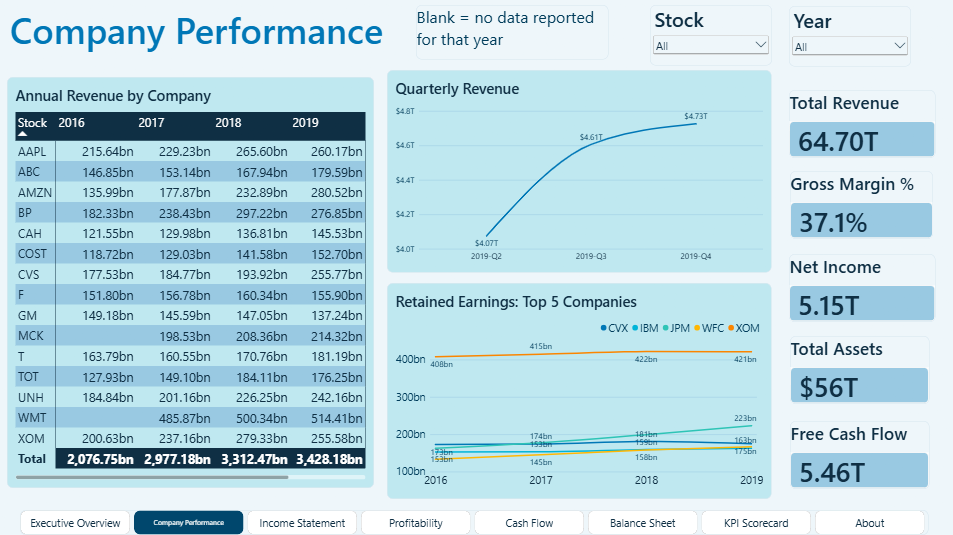

The dashboard page shown, as its layout file describes it:
{"tool":"powerbi","page":{"name":"Company Performance","canvas":[1920,1080],"ordinal":1},"visuals":[{"type":"textbox","box":[29.4,20.6,882.9,108.9],"z":0},{"type":"slicer","fields":{"Values":["Dim_Date.Year"]},"box":[1588.1,21.3,244.5,121.2],"z":1000},{"type":"slicer","fields":{"Values":["Dim_Company.stock"]},"box":[1310.7,20.2,244.5,121.2],"z":2000},{"type":"cardVisual","title":"Total Revenue","fields":{"Data":["_Measures.Total Revenue"]},"box":[1588.1,189.2,293,136],"z":3000},{"type":"cardVisual","title":"Net Income","fields":{"Data":["_Measures.Net Income"]},"box":[1588.1,518.7,293,136],"z":4000},{"type":"cardVisual","title":"Free Cash Flow","fields":{"Data":["_Measures.Free Cash Flow"]},"box":[1590.2,852.5,279,136],"z":5000},{"type":"cardVisual","title":"Total Assets","fields":{"Data":["_Measures.Total Assets (Latest)"]},"box":[1590.2,682.4,279,136],"z":6000},{"type":"cardVisual","title":"Gross Margin %","fields":{"Data":["_Measures.Gross Margin %"]},"box":[1590.2,352.9,286,136],"z":7000},{"type":"pivotTable","title":"Annual Revenue by Company","fields":{"Columns":["Dim_Date.Year"],"Rows":["Dim_Company.Stock"],"Values":["_Measures.Total Revenue"]},"box":[23.5,164.4,733.9,822],"z":8000},{"type":"lineChart","title":"Quarterly Revenue","fields":{"Category":["Dim_Date.YearQuarter"],"Y":["_Measures.Revenue (Quarterly)"]},"box":[783.9,149.7,768.9,404.7],"z":9000},{"type":"lineChart","title":"Retained Earnings: Top 5 Companies","fields":{"Category":["Dim_Date.Year"],"Series":["Dim_Company.Stock"],"Y":["_Measures.Retained Earnings"]},"box":[783.9,575.4,768.9,431.7],"z":10000},{"type":"textbox","box":[842.6,20.6,384.6,108.6],"z":11000},{"type":"pageNavigator","box":[50.3,1029.7,1817.4,50.3],"z":11001}]}

Visuals, with their boxes in screenshot pixels (x1, y1, x2, y2), scaled from the page's 1920x1080 canvas onto the 953x535 screenshot:
textbox: x1=15 y1=10 x2=453 y2=64
slicer - Dim_Date.Year: x1=788 y1=11 x2=910 y2=71
slicer - Dim_Company.stock: x1=651 y1=10 x2=772 y2=70
"Total Revenue" cardVisual: x1=788 y1=94 x2=934 y2=161
"Net Income" cardVisual: x1=788 y1=257 x2=934 y2=324
"Free Cash Flow" cardVisual: x1=789 y1=422 x2=928 y2=490
"Total Assets" cardVisual: x1=789 y1=338 x2=928 y2=405
"Gross Margin %" cardVisual: x1=789 y1=175 x2=931 y2=242
"Annual Revenue by Company" pivotTable: x1=12 y1=81 x2=376 y2=489
"Quarterly Revenue" lineChart: x1=389 y1=74 x2=771 y2=275
"Retained Earnings: Top 5 Companies" lineChart: x1=389 y1=285 x2=771 y2=499
textbox: x1=418 y1=10 x2=609 y2=64
pageNavigator: x1=25 y1=510 x2=927 y2=534
